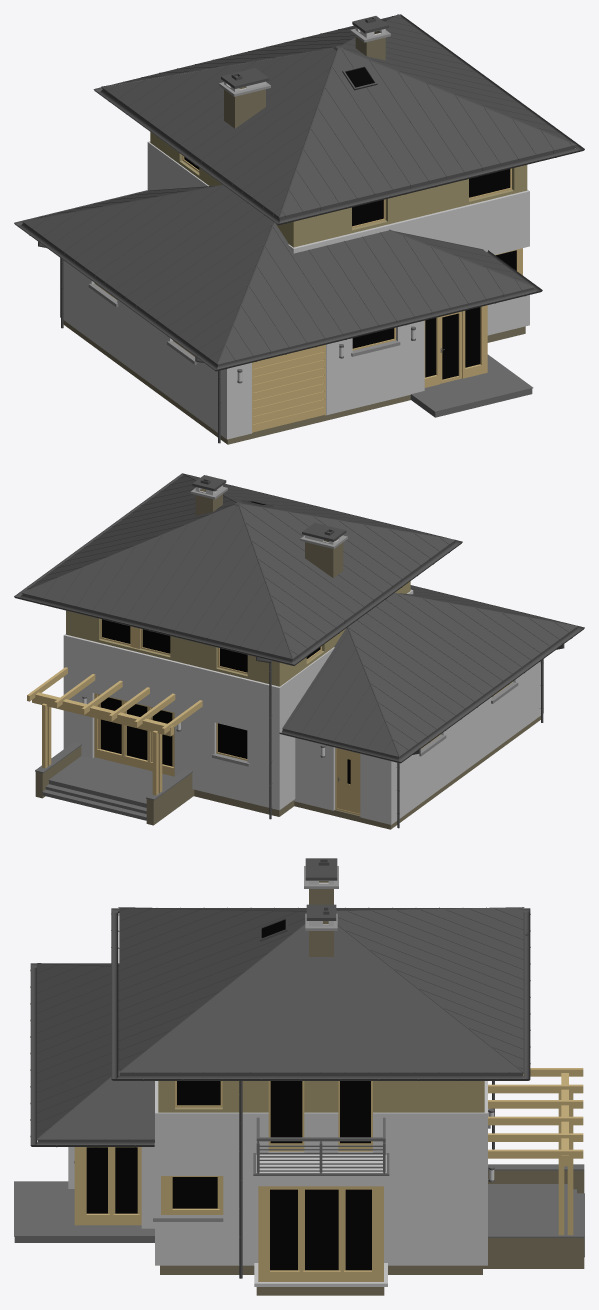
File: Bamboo House.fbx
3 views of the same model, one above another, from view 1: azimuth 30°, elevation 25°; view 2: azimuth 150°, elevation 25°; view 3: azimuth 270°, elevation 25° (orthographic). The views are drawn at different scales.
Parts seen in each view (by area): view 1: Bambo_House; view 2: Bambo_House; view 3: Bambo_House.
Part boxes in pixels (x1,y1,x2,y2): Bambo_House: (14, 14, 584, 444); Bambo_House: (14, 473, 584, 829); Bambo_House: (14, 858, 584, 1295).
Size of the model in its own units: 1364 by 900 by 1454.
